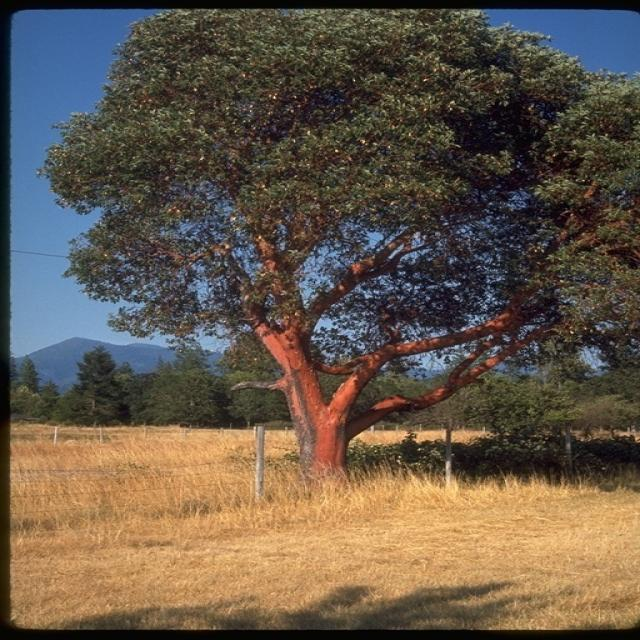Arbutus menziesii: (39, 12, 639, 480)
